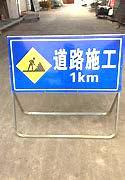sign: (8, 36, 122, 92)
